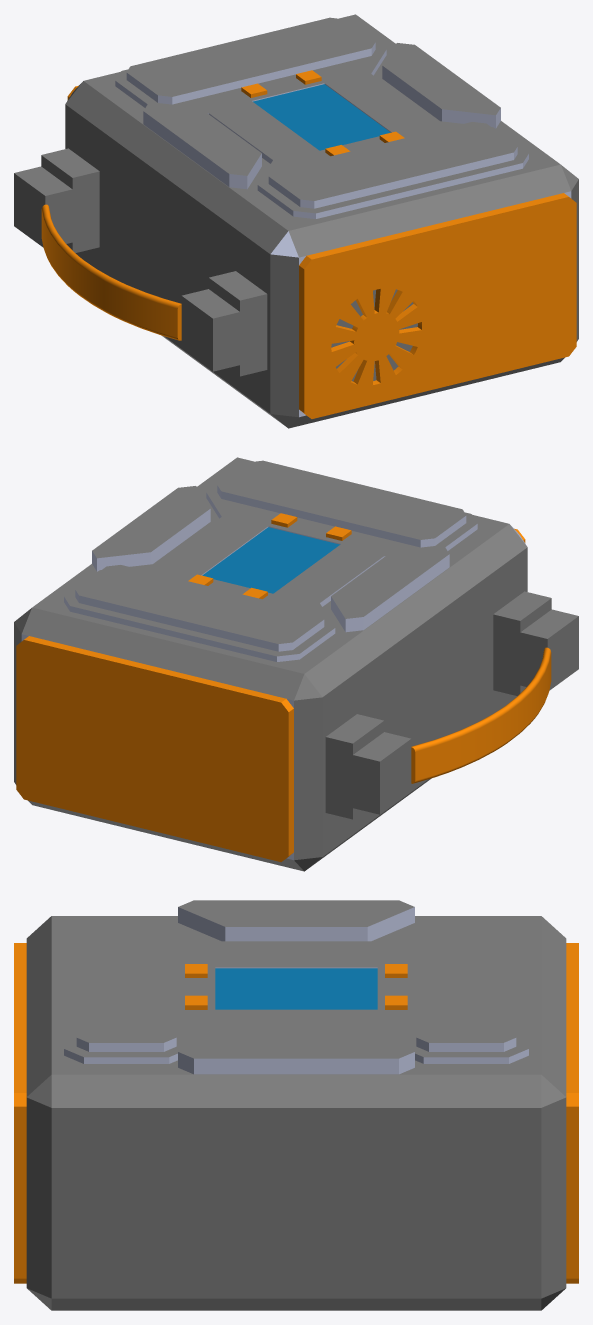
The model's file is NUC Powerbank.fbx.
The picture shows the model from 3 angles, top to bottom: view 1: azimuth 30°, elevation 25°; view 2: azimuth 150°, elevation 25°; view 3: azimuth 270°, elevation 25°; orthographic projection. The views are drawn at different scales.
Parts seen in each view (by area): view 1: Imported1; view 2: Imported1; view 3: Imported1.
Part boxes in pixels (bbox=[...]): Imported1: bbox=[14, 14, 578, 428]; Imported1: bbox=[14, 457, 578, 871]; Imported1: bbox=[14, 900, 578, 1310].
Size of the model in its own units: 8.59 by 4.38 by 8.89.
